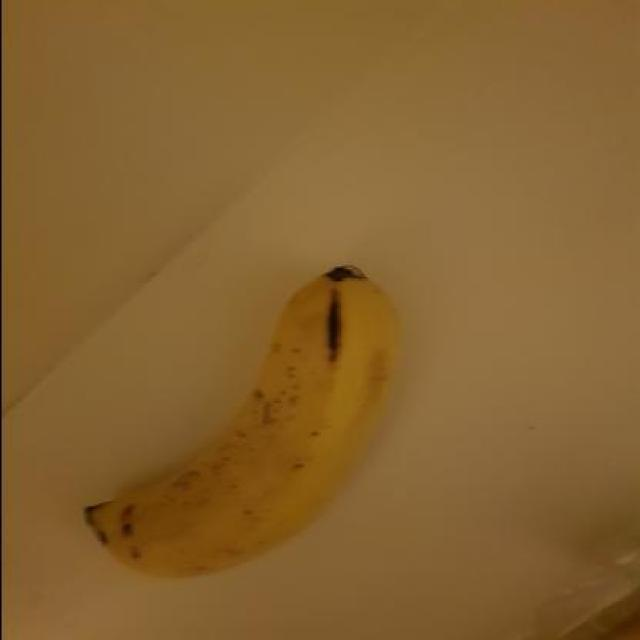Banana: (72, 260, 412, 586)
